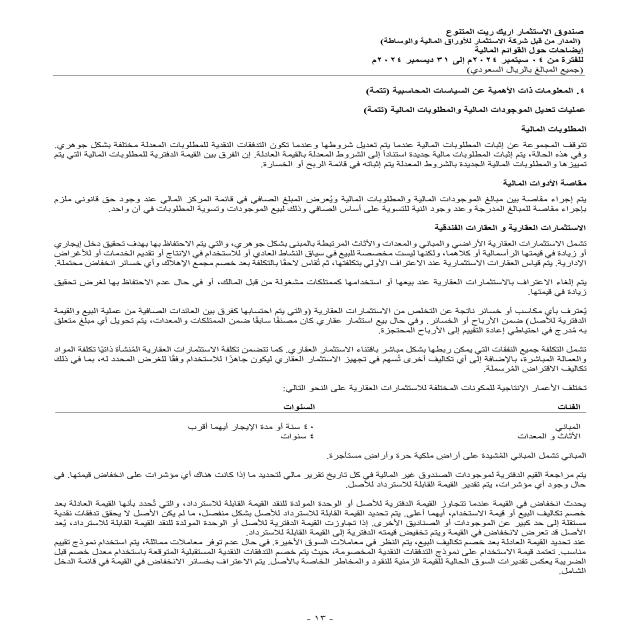notes: (472, 47, 592, 57)
text: (39, 79, 590, 583)
